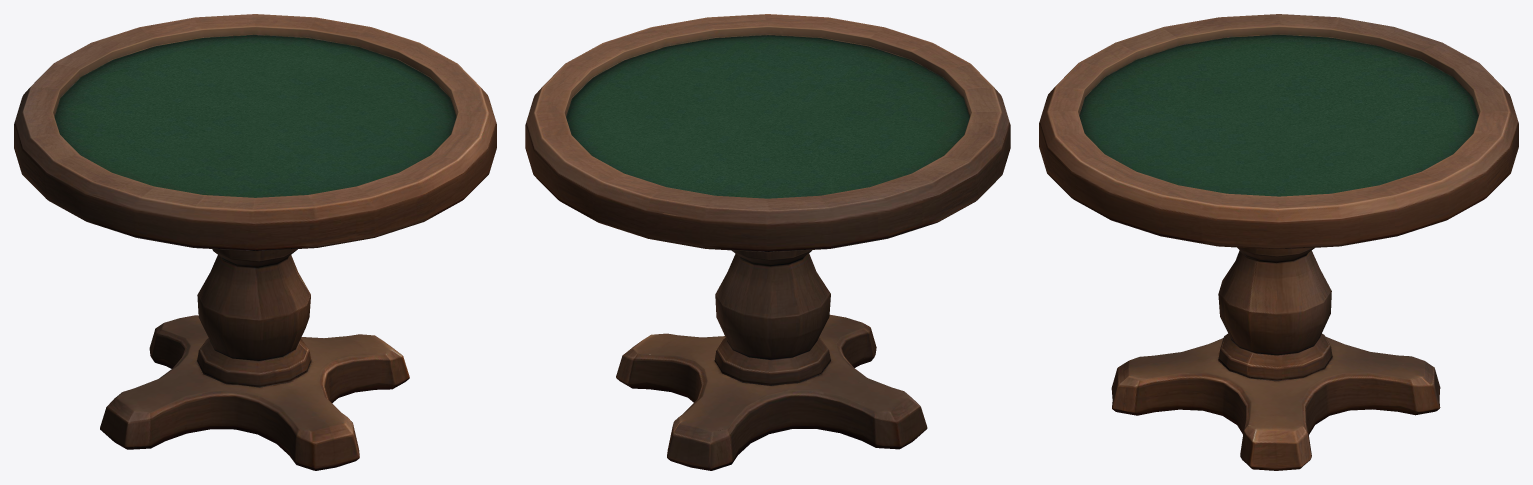
Rendered from table.glb.
3 renders of one model, left to right at view 1: azimuth 30°, elevation 25°; view 2: azimuth 150°, elevation 25°; view 3: azimuth 270°, elevation 25°, orthographic.
Parts seen in each view (by area): view 1: cb178830_c5c8_4312_89c3_ed689d439a38; view 2: cb178830_c5c8_4312_89c3_ed689d439a38; view 3: cb178830_c5c8_4312_89c3_ed689d439a38.
Boxes of the visible parts, left/top/right/bottom form: cb178830_c5c8_4312_89c3_ed689d439a38: left=14, top=14, right=496, bottom=470; cb178830_c5c8_4312_89c3_ed689d439a38: left=525, top=14, right=1010, bottom=470; cb178830_c5c8_4312_89c3_ed689d439a38: left=1039, top=14, right=1518, bottom=470.
Size of the model in its own units: 0.9995 by 0.6733 by 0.9995.
Materials: 1 (1 with a texture image).
